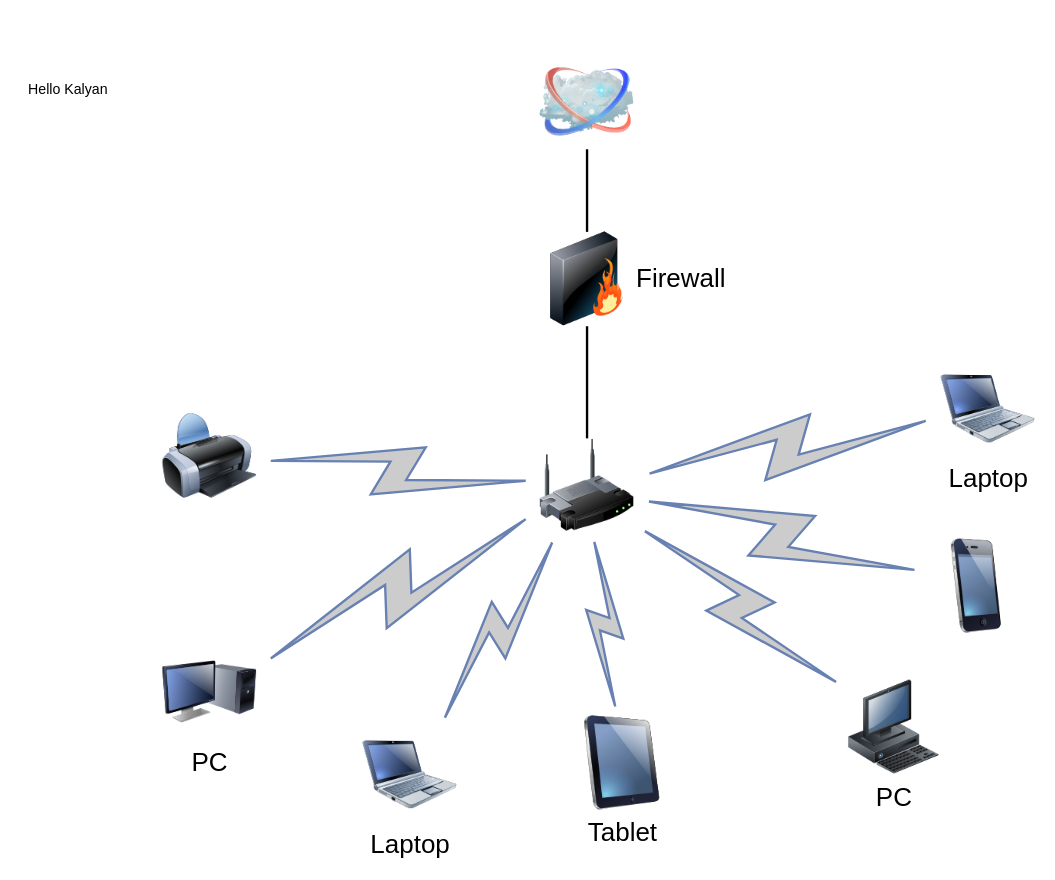
Some shapes in this 1055 by 880 pixel diagram are drawn without their labels. Each missing label, with the centre of its shape:
"Internet" belongs at point 586,101.
"Mobile" belongs at point 976,585.
"Printer" belongs at point 209,455.
